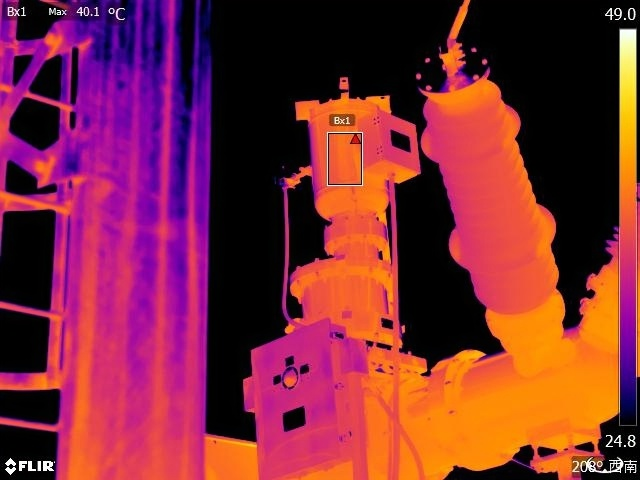tube: (413, 44, 567, 324)
